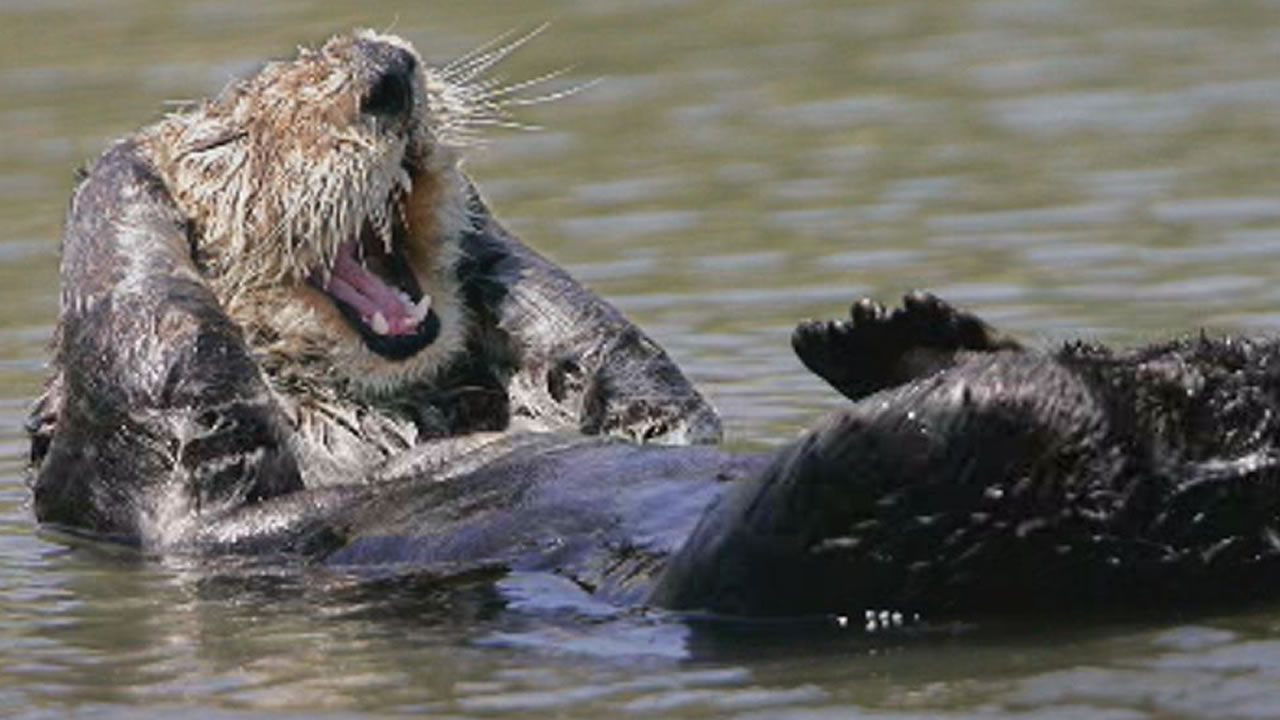otter: (63, 35, 712, 538)
